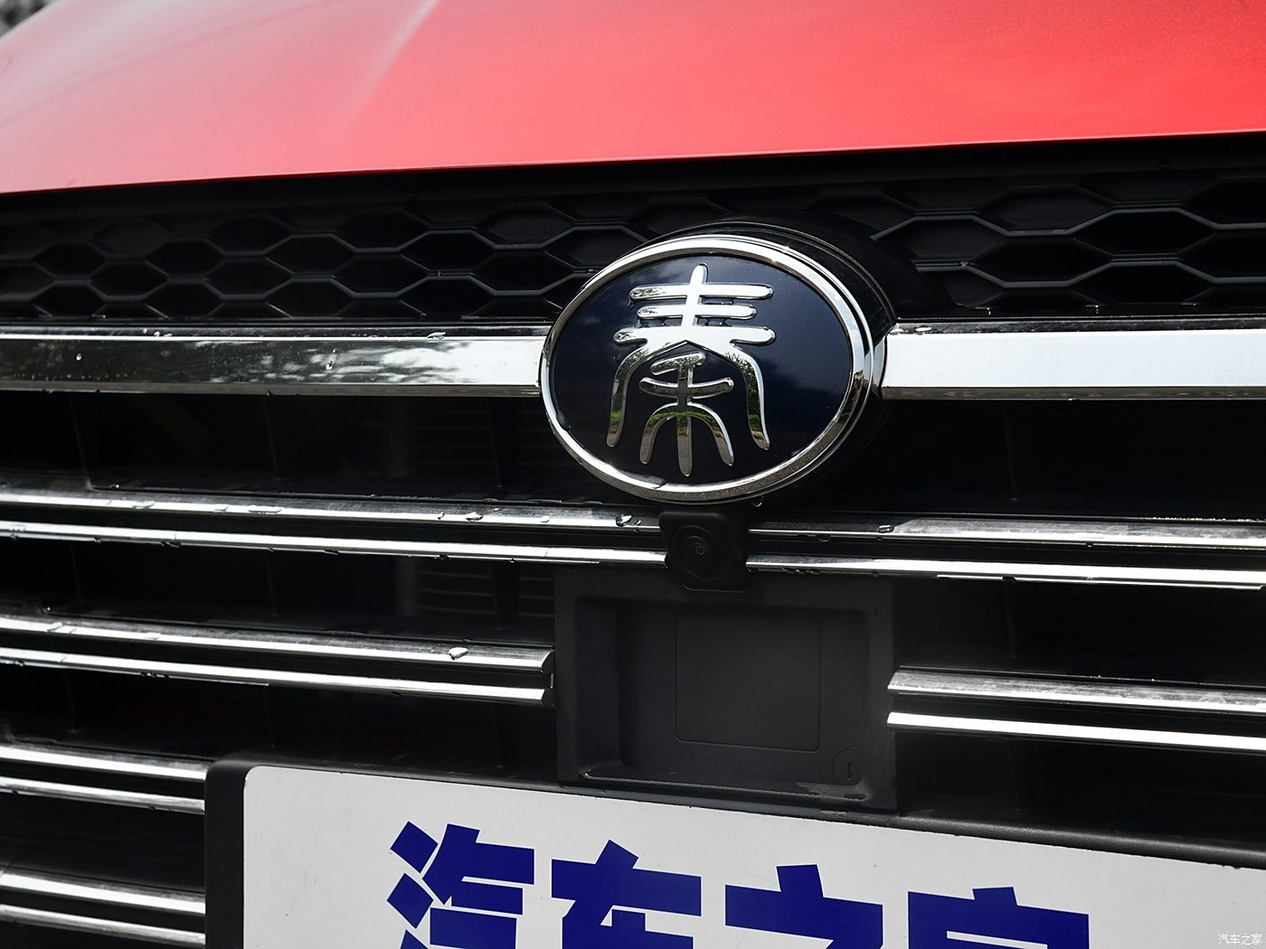BYD Qin: (539, 237, 872, 498)
